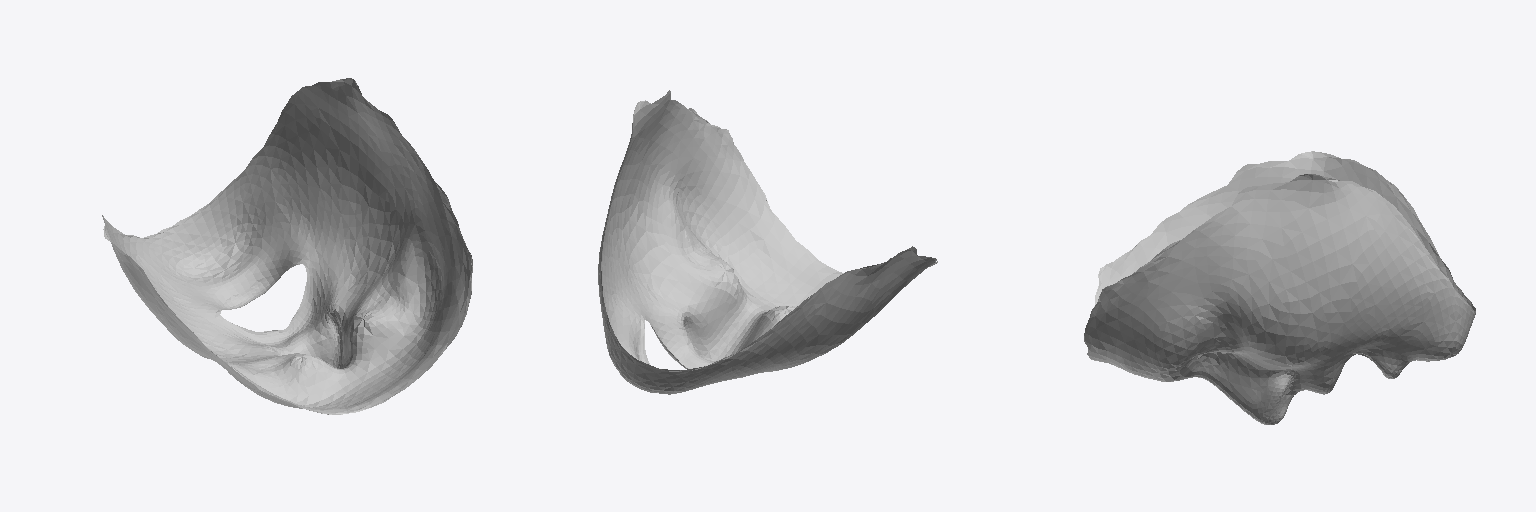
The model's file is face_gab_sfm78.obj.
The picture shows the model from 3 angles: view 1: azimuth 30°, elevation 25°; view 2: azimuth 150°, elevation 25°; view 3: azimuth 270°, elevation 25°; orthographic projection.
Bounding box in the file's own units: 166 × 162 × 209.